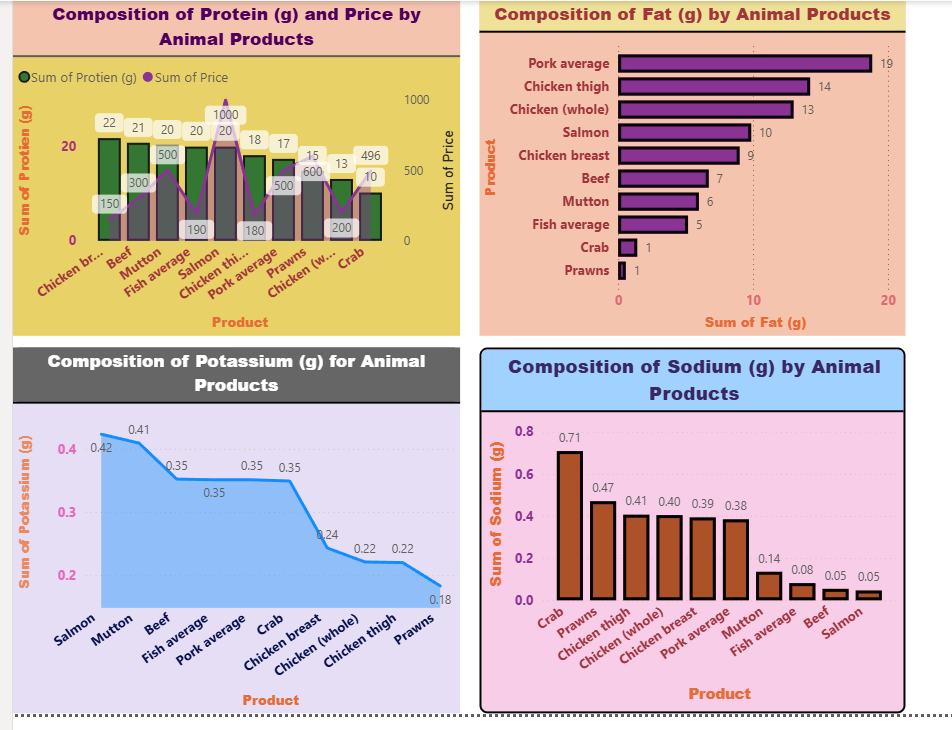

What the dashboard file says about the page in this screenshot:
{"tool":"powerbi","page":{"name":"Animal Products","canvas":[1280,720],"ordinal":1},"visuals":[{"type":"areaChart","title":"Composition of Potassium (g) for Animal Products","fields":{"Y":["Sum(Animal Source nutrition.Potassium (g))"],"Category":["Animal Source nutrition.Product"]},"box":[0,349.8,451.2,369.5],"z":0},{"type":"lineStackedColumnComboChart","title":"Composition of Protein (g) and Price by Animal Products","fields":{"Category":["Animal Source nutrition.Product"],"Y":["Sum(Animal Source nutrition.Protien (g))"],"Y2":["Sum(Animal Source nutrition.Price)"]},"box":[0,0,451.2,337.7],"z":1000},{"type":"clusteredBarChart","title":"Composition of Fat (g) by Animal Products","fields":{"Y":["Sum(Animal Source nutrition.Fat (g))"],"Category":["Animal Source nutrition.Product"]},"box":[470.9,0,430,337.7],"z":2000},{"type":"clusteredColumnChart","title":"Composition of Sodium (g) by Animal Products","fields":{"Category":["Animal Source nutrition.Product"],"Y":["Sum(Animal Source nutrition.Sodium (g))"]},"box":[470.9,349.8,430,369.5],"z":3000}]}

Visuals, with their boxes on the page's 1280x720 design canvas (x1, y1, x2, y2). These are canvas units, not pixel positions in the 952x730 screenshot, which may show the page scaled, cropped or inside an application window:
"Composition of Potassium (g) for Animal Products" areaChart: bbox=(0, 350, 451, 719)
"Composition of Protein (g) and Price by Animal Products" lineStackedColumnComboChart: bbox=(0, 0, 451, 338)
"Composition of Fat (g) by Animal Products" clusteredBarChart: bbox=(471, 0, 901, 338)
"Composition of Sodium (g) by Animal Products" clusteredColumnChart: bbox=(471, 350, 901, 719)
